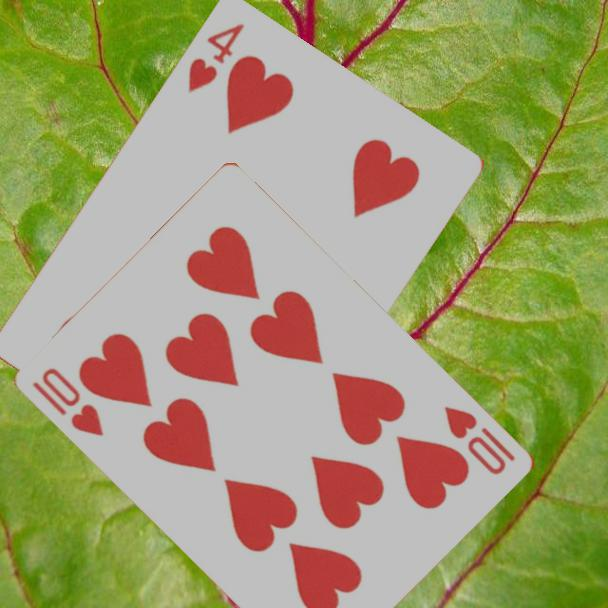h04: (184, 21, 248, 97)
h10: (441, 402, 519, 478), (29, 364, 107, 439)
